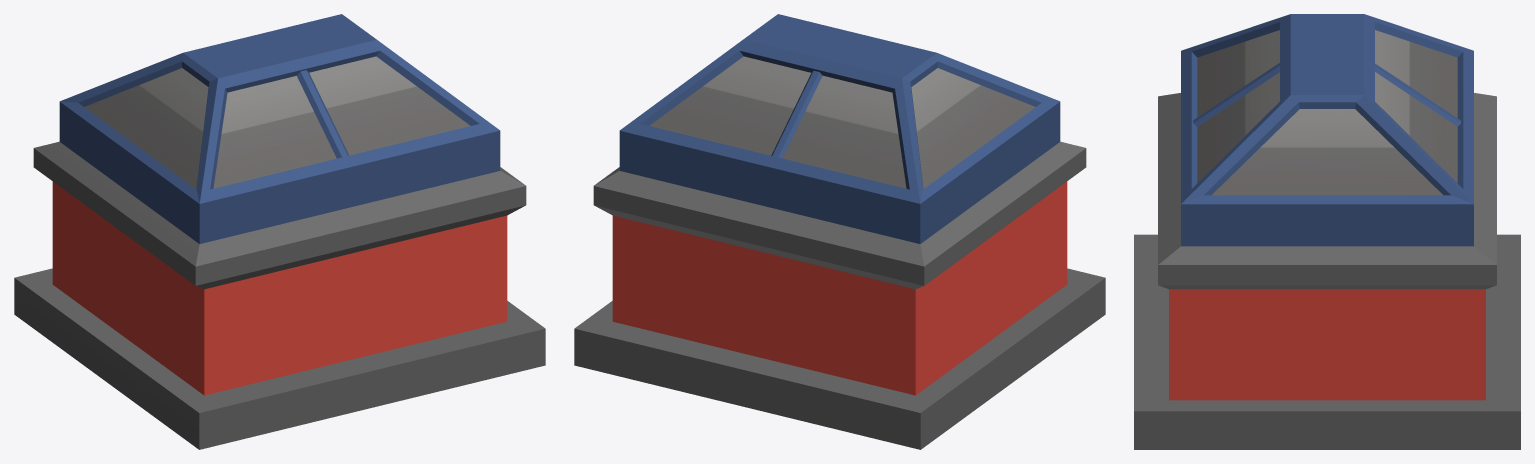
File: RoofLights_1_A.fbx
The picture shows the model from 3 angles, left to right: view 1: azimuth 30°, elevation 25°; view 2: azimuth 150°, elevation 25°; view 3: azimuth 270°, elevation 25°; orthographic projection. The views are drawn at different scales.
Visible parts, largest first — view 1: RoofLights_1_A; view 2: RoofLights_1_A; view 3: RoofLights_1_A.
Boxes of the visible parts, x1,y1,x2,y2 form: RoofLights_1_A: (14, 14, 545, 449); RoofLights_1_A: (574, 14, 1105, 449); RoofLights_1_A: (1134, 14, 1520, 449).
Size of the model in its own units: 107 by 86.65 by 98.88.
